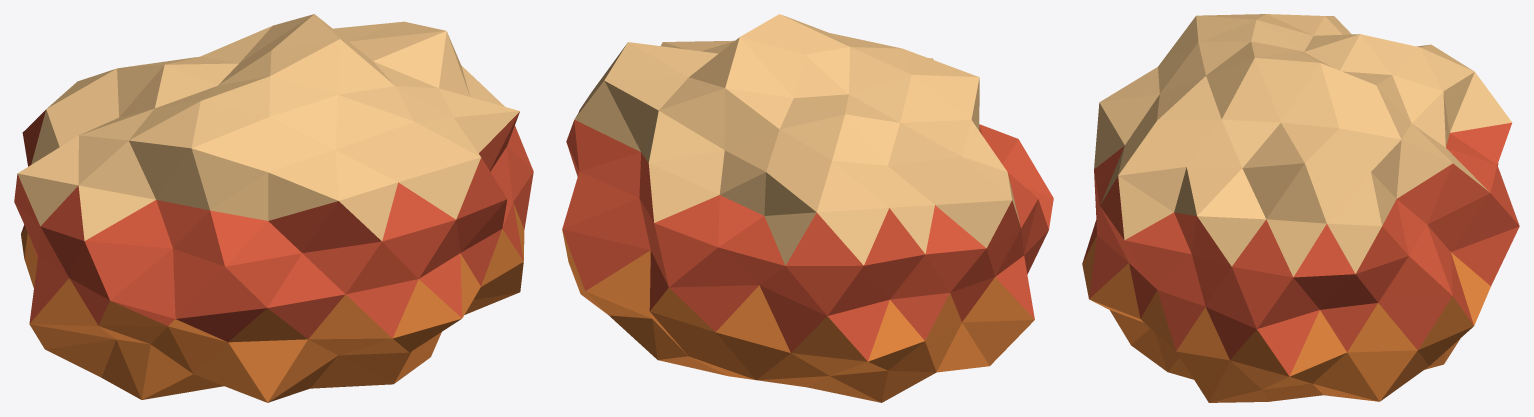
File: desert_rock_a.glb
3 views of the same model, side by side, from view 1: azimuth 30°, elevation 25°; view 2: azimuth 150°, elevation 25°; view 3: azimuth 270°, elevation 25° (orthographic). The views are drawn at different scales.
Visible parts, largest first — view 1: desert_rock_a; view 2: desert_rock_a; view 3: desert_rock_a.
Part boxes in pixels (x1,y1,x2,y2): desert_rock_a: (14, 14, 533, 402); desert_rock_a: (562, 14, 1053, 402); desert_rock_a: (1082, 14, 1519, 402).
Size of the model in its own units: 4.39 by 2.56 by 3.48.
